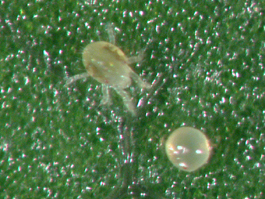Mites: (59, 24, 158, 118)
